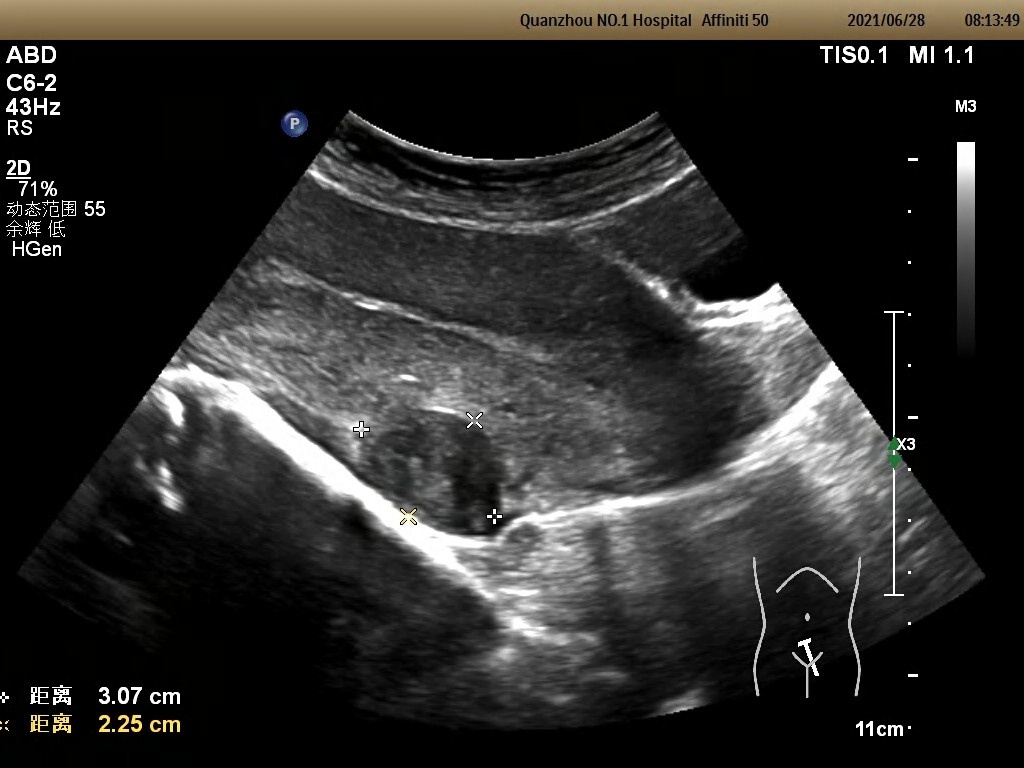肌瘤: (365, 415, 493, 518)
